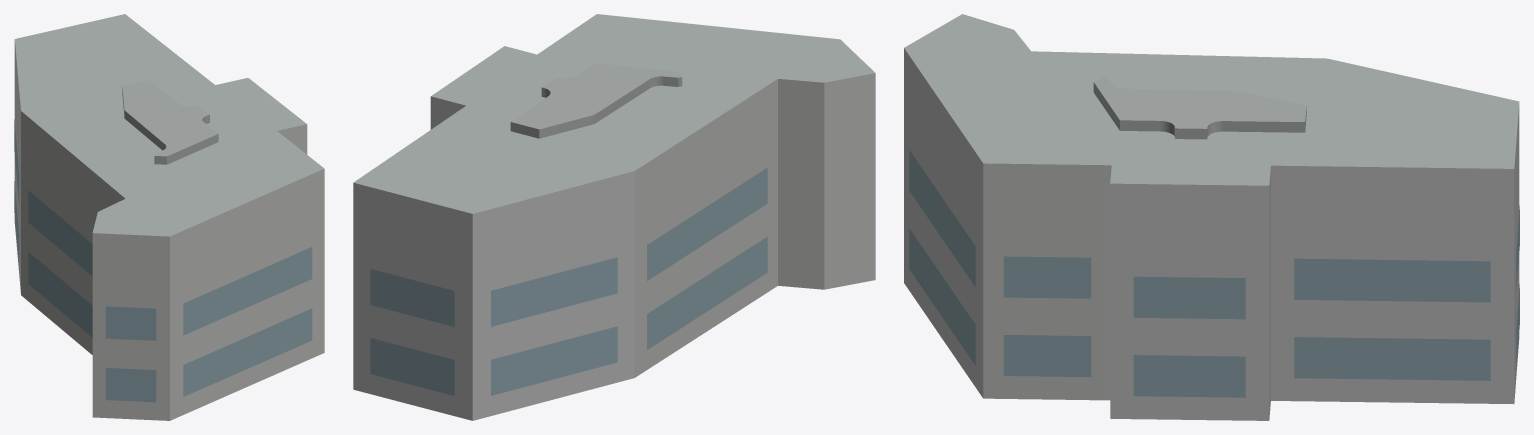
Rendered from named-apt-59f45318-df9f-4560-9688-6830250fc736.glb.
3 views of the same model, side by side, from view 1: azimuth 30°, elevation 25°; view 2: azimuth 150°, elevation 25°; view 3: azimuth 270°, elevation 25° (orthographic). The views are drawn at different scales.
Visible parts, largest first — view 1: named-apt-59f45318-df9f-4560-9688-6830250fc736; view 2: named-apt-59f45318-df9f-4560-9688-6830250fc736; view 3: named-apt-59f45318-df9f-4560-9688-6830250fc736.
Boxes of the visible parts, x1,y1,x2,y2 form: named-apt-59f45318-df9f-4560-9688-6830250fc736: (14,14,324,420); named-apt-59f45318-df9f-4560-9688-6830250fc736: (353,14,875,420); named-apt-59f45318-df9f-4560-9688-6830250fc736: (904,14,1519,420).
Bounding box in the file's own units: 14.35 × 9.56 × 21.71.
